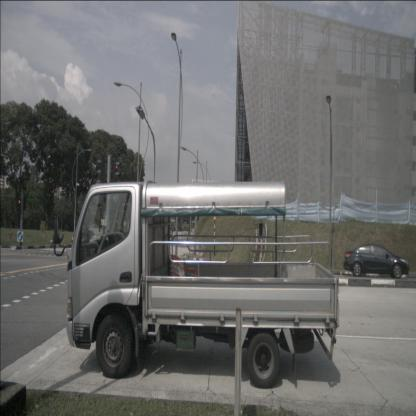vehicle-car: (343, 244, 410, 279)
vehicle-truck: (64, 178, 340, 390)
